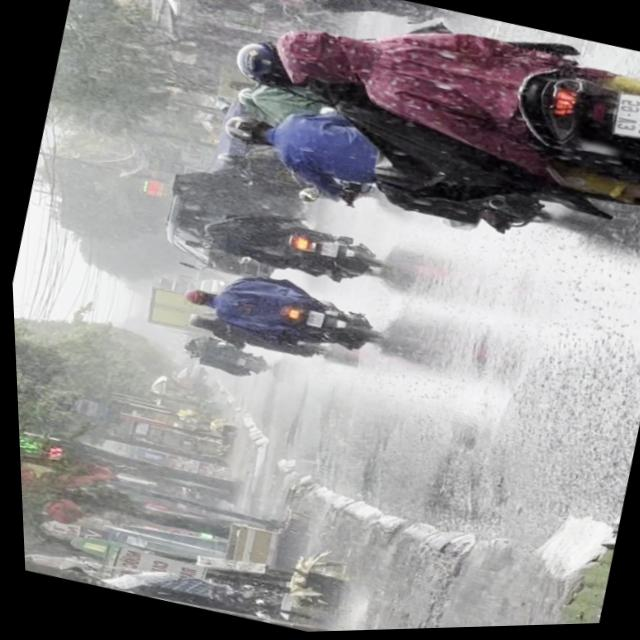helmet: (267, 16, 374, 93), (227, 34, 299, 91), (217, 109, 275, 151), (178, 284, 215, 310)
licenseplate: (203, 0, 640, 248), (200, 71, 601, 268), (172, 254, 392, 375)
nohelmet: (608, 92, 640, 145), (301, 310, 323, 330)
